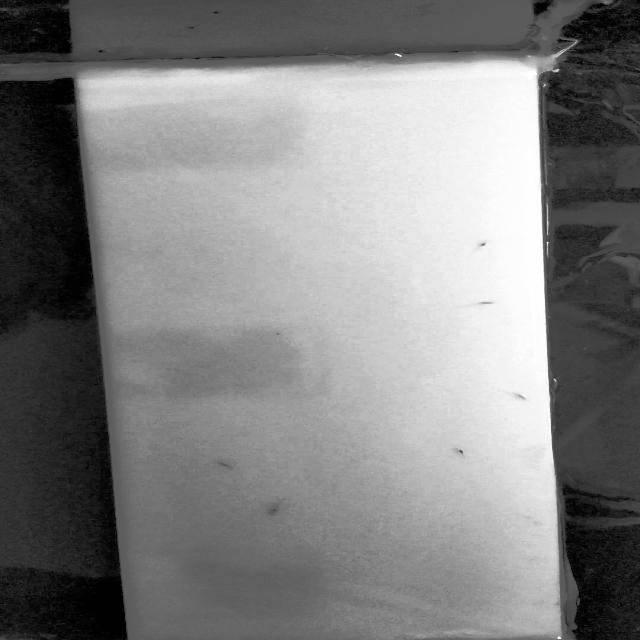shrimp: (253, 497, 310, 525), (207, 455, 248, 479), (468, 291, 509, 312), (445, 438, 480, 458), (470, 238, 505, 254)
